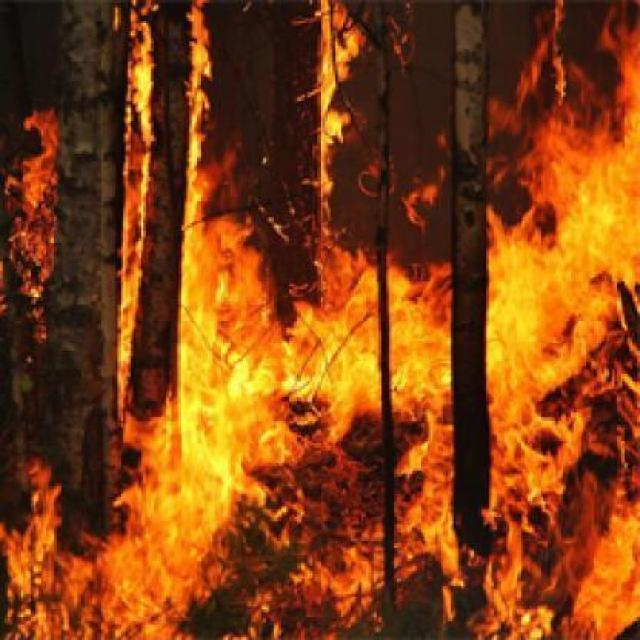Fire: (43, 2, 465, 640)
